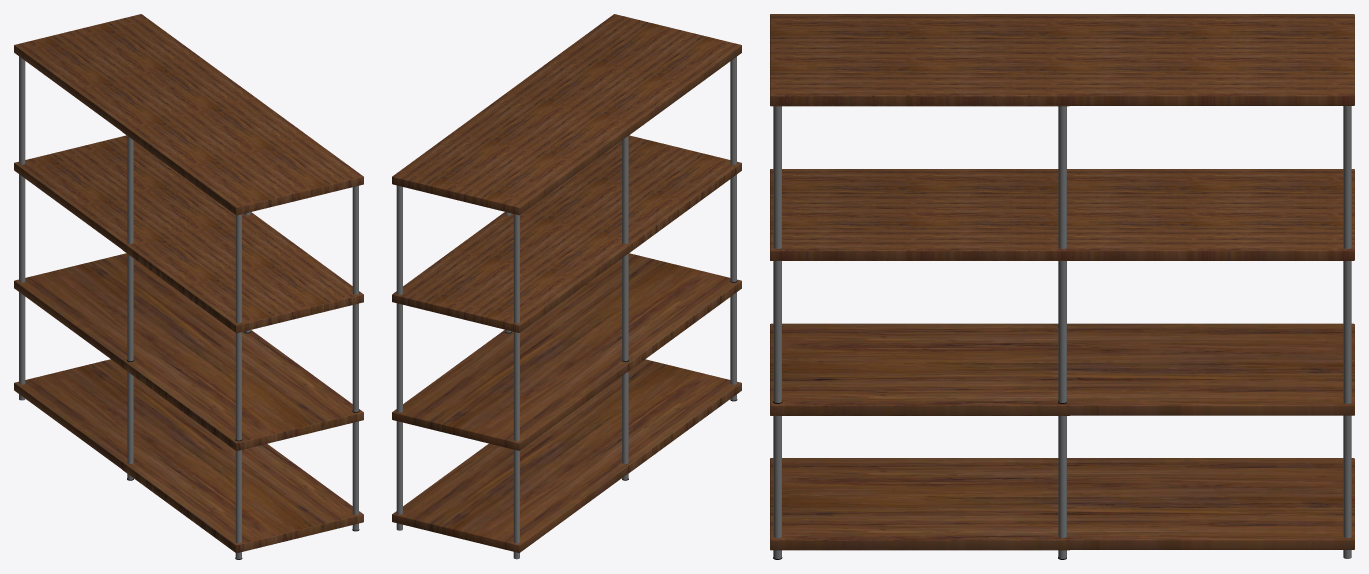
File: rack.glb
3 views of the same model, side by side, from view 1: azimuth 30°, elevation 25°; view 2: azimuth 150°, elevation 25°; view 3: azimuth 270°, elevation 25° (orthographic). The views are drawn at different scales.
Parts seen in each view (by area): view 1: 06-tabla, 05-tabla, 04-tabla-sup, 04-tabla-inf, 03-caño, 02-caños, 01-tabla-sup, 01-tabla-inf, 02-tabla, 01-caño, 03-tabla, 06-caños (+2 smaller); view 2: 06-tabla, 04-tabla-sup, 05-tabla, 04-tabla-inf, 06-caños, 05-caños, 04-caños, 01-tabla-sup, 01-tabla-inf, 02-tabla, 03-caño, 02-caños (+1 smaller); view 3: 06-tabla, 04-tabla-sup, 05-tabla, 04-tabla-inf, 06-caños, 05-caños, 04-caños, 03-tabla, 01-tabla-inf, 01-tabla-sup, 02-tabla.
Part boxes in pixels (x1,y1,x2,y2): 06-tabla: (14, 14, 362, 214); 05-tabla: (14, 135, 363, 325); 04-tabla-sup: (14, 253, 362, 443); 04-tabla-inf: (14, 359, 363, 545); 03-caño: (127, 136, 358, 323); 02-caños: (127, 254, 358, 440); 01-tabla-sup: (122, 360, 363, 451); 01-tabla-inf: (122, 462, 363, 553); 02-tabla: (122, 242, 363, 333); 01-caño: (127, 372, 358, 559); 03-tabla: (122, 124, 363, 215); 06-caños: (19, 56, 25, 164); 06-tabla: (392, 14, 741, 215); 04-tabla-sup: (392, 253, 740, 450); 05-tabla: (392, 135, 740, 332); 04-tabla-inf: (392, 359, 740, 552); 06-caños: (396, 59, 734, 323); 05-caños: (396, 176, 734, 441); 04-caños: (396, 294, 734, 559); 01-tabla-sup: (628, 280, 741, 371); 01-tabla-inf: (628, 383, 741, 473); 02-tabla: (628, 163, 741, 253); 03-caño: (509, 57, 736, 243); 02-caños: (509, 174, 736, 361); 06-tabla: (770, 14, 1354, 105); 04-tabla-sup: (770, 323, 1354, 415); 05-tabla: (770, 169, 1354, 260); 04-tabla-inf: (770, 458, 1354, 549); 06-caños: (774, 106, 1351, 248); 05-caños: (774, 261, 1351, 403); 04-caños: (774, 415, 1351, 558); 03-tabla: (770, 14, 1069, 106); 01-tabla-inf: (770, 458, 1069, 550); 01-tabla-sup: (770, 324, 1069, 415); 02-tabla: (770, 169, 1069, 260).
Bounding box in the file's own units: 0.3407 × 0.9035 × 1.03.
15 materials, 6 textured.
